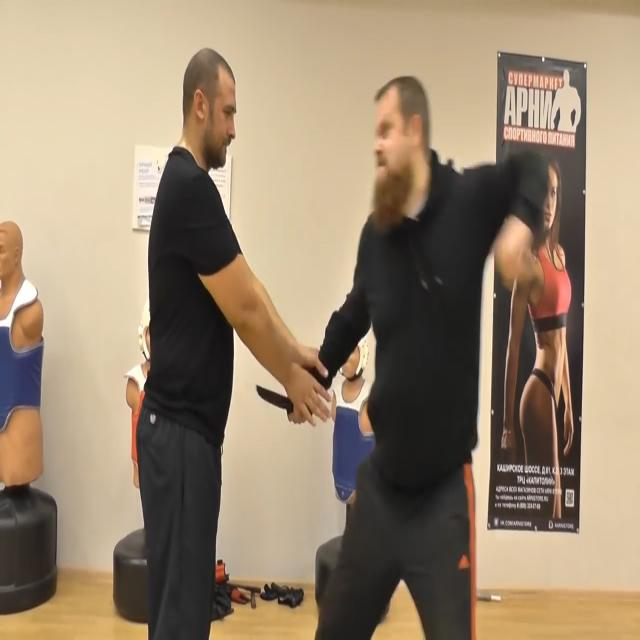knife: (253, 382, 293, 420)
